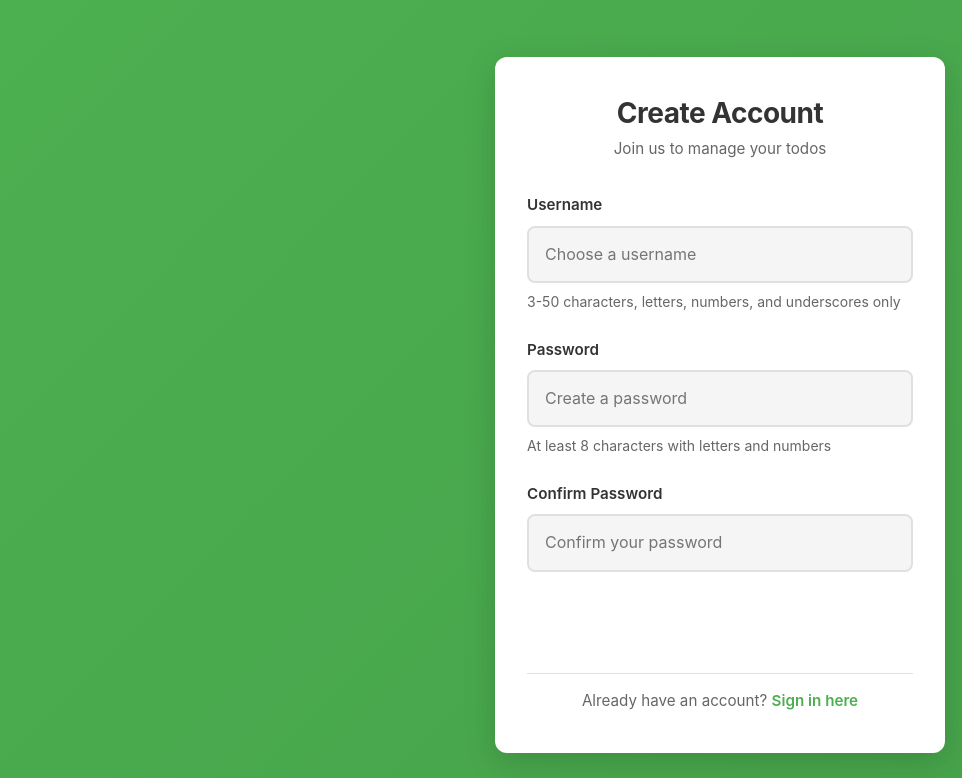
it: SignupPage.vue › Form Submission › enables submit button when form is valid
Type "validuser123" into the field with id "username" at (720, 254), box [527, 226, 913, 283]
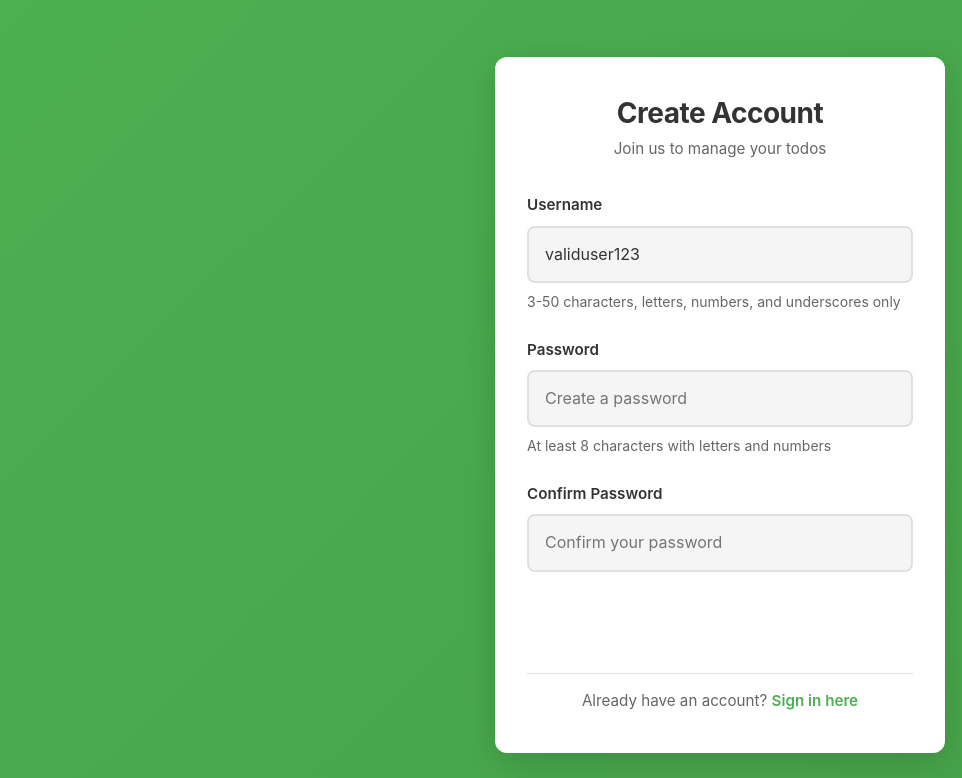
Type "ValidPass123" into the password field labelled "Password" at (720, 399), box [527, 370, 913, 428]
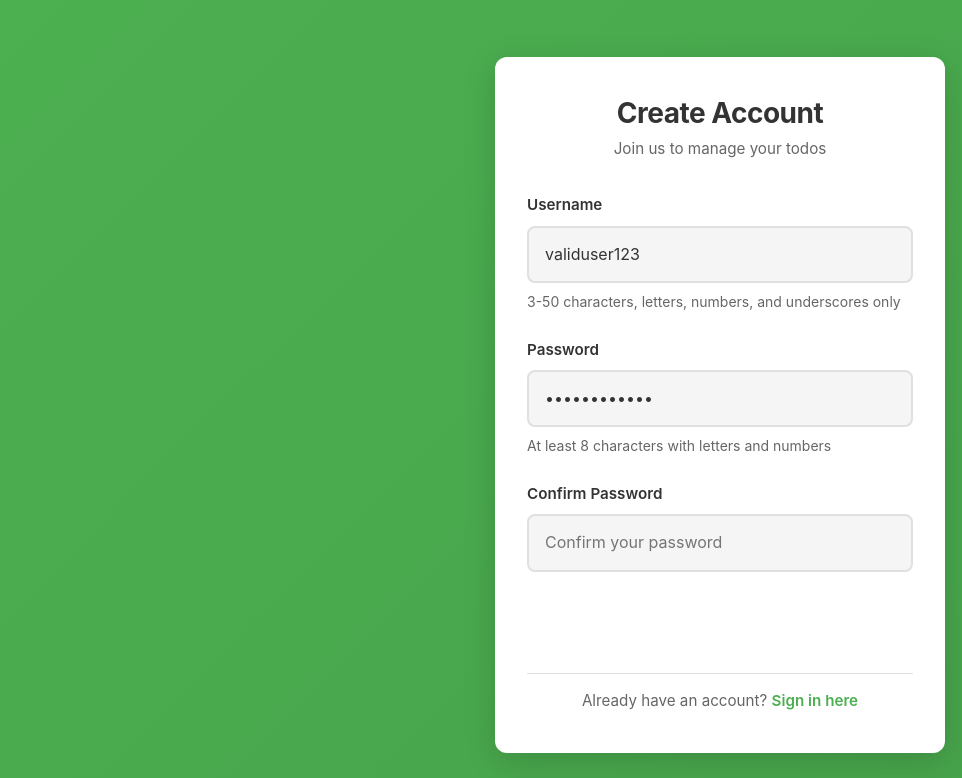
Type "ValidPass123" into the password field labelled "Confirm Password" at (720, 543), box [527, 514, 913, 572]
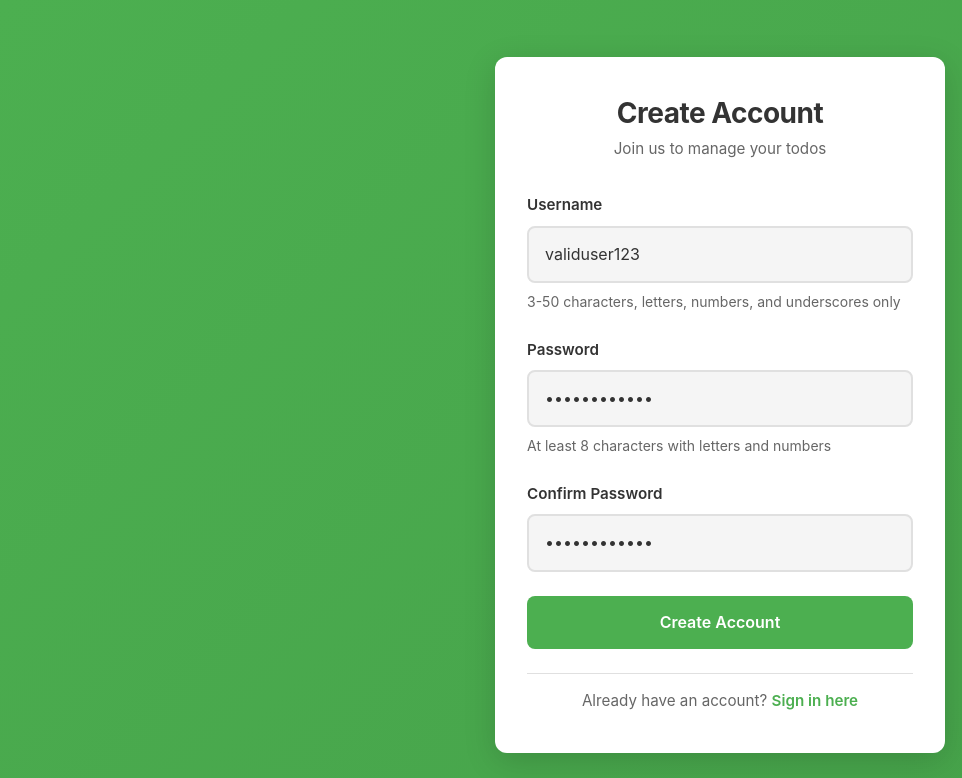
Expected: the submit button is enabled, [527, 596, 913, 649]
